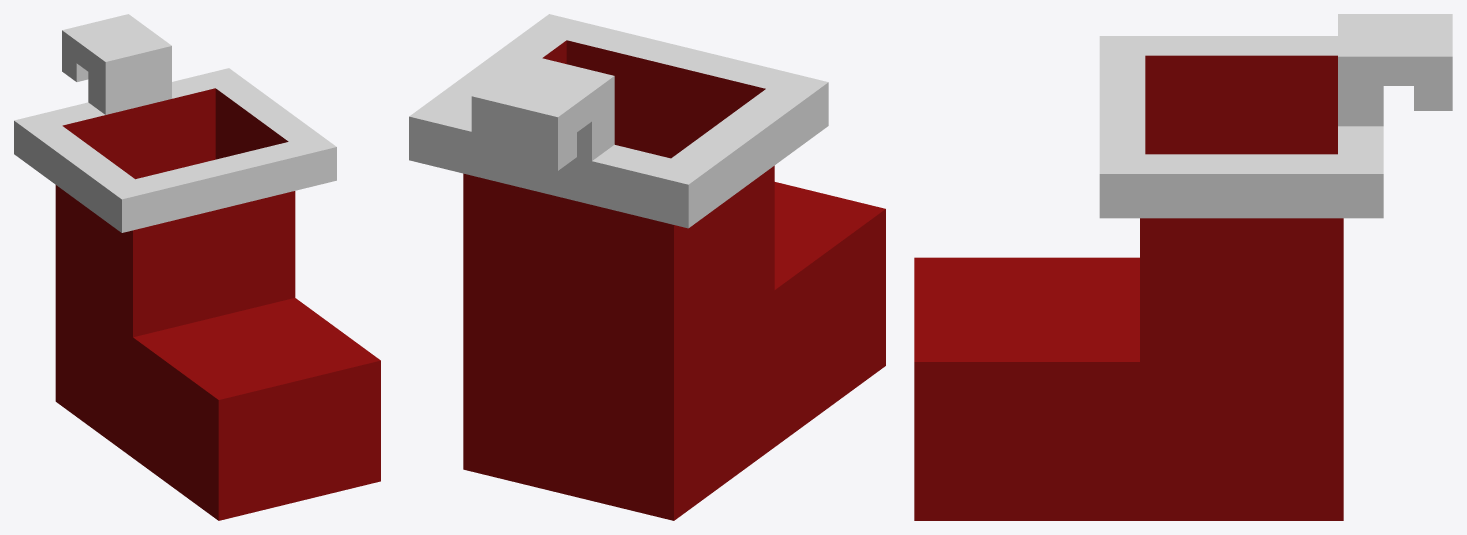
Rendered from 037 Christmas_Socks.fbx.
The picture shows the model from 3 angles, left to right: view 1: azimuth 30°, elevation 25°; view 2: azimuth 150°, elevation 25°; view 3: azimuth 270°, elevation 25°; orthographic projection. The views are drawn at different scales.
Visible parts, largest first — view 1: Lowpoly_Christmas_Pack_037:pCube2; view 2: Lowpoly_Christmas_Pack_037:pCube2; view 3: Lowpoly_Christmas_Pack_037:pCube2.
Boxes of the visible parts, bbox=[...] form: Lowpoly_Christmas_Pack_037:pCube2: bbox=[14, 14, 380, 520]; Lowpoly_Christmas_Pack_037:pCube2: bbox=[409, 14, 885, 520]; Lowpoly_Christmas_Pack_037:pCube2: bbox=[914, 14, 1452, 520].
Bounding box in the file's own units: 0.8142 × 1.19 × 1.34.
